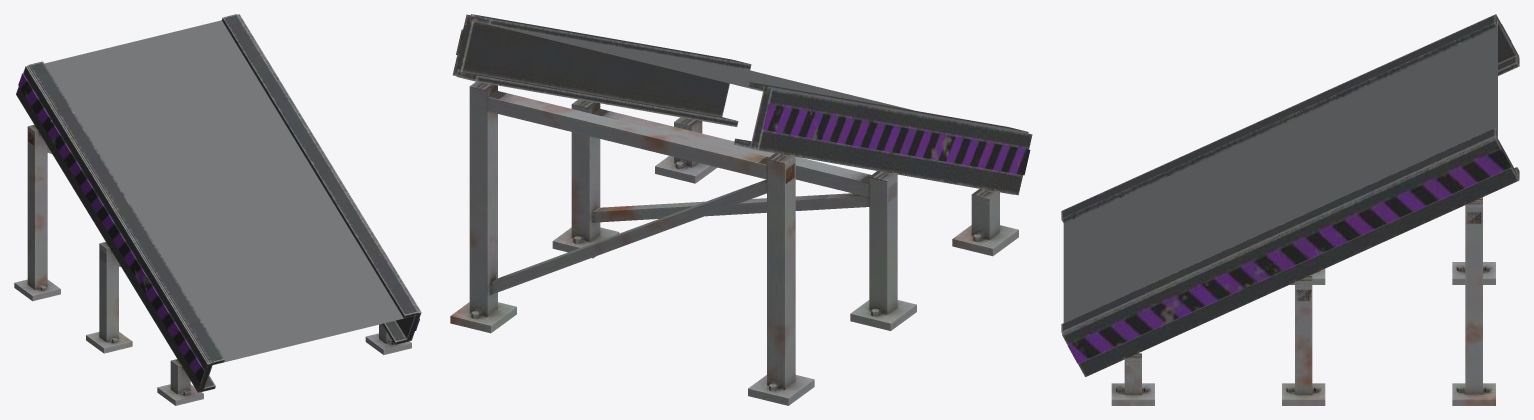
Rendered from esteira_rampa_quantica.glb.
3 renders of one model, left to right at view 1: azimuth 30°, elevation 25°; view 2: azimuth 150°, elevation 25°; view 3: azimuth 270°, elevation 25°, orthographic. The views are drawn at different scales.
Visible parts, largest first — view 1: esteira_rampa_quantica_corpo; view 2: esteira_rampa_quantica_corpo; view 3: esteira_rampa_quantica_corpo.
Part boxes in pixels (left/top/right/bottom): esteira_rampa_quantica_corpo: left=14, top=14, right=421, bottom=405; esteira_rampa_quantica_corpo: left=450, top=14, right=1032, bottom=405; esteira_rampa_quantica_corpo: left=1061, top=14, right=1519, bottom=405.
Bounding box in the file's own units: 0.75 × 0.6661 × 1.06.
Materials: 2 (1 with a texture image).
